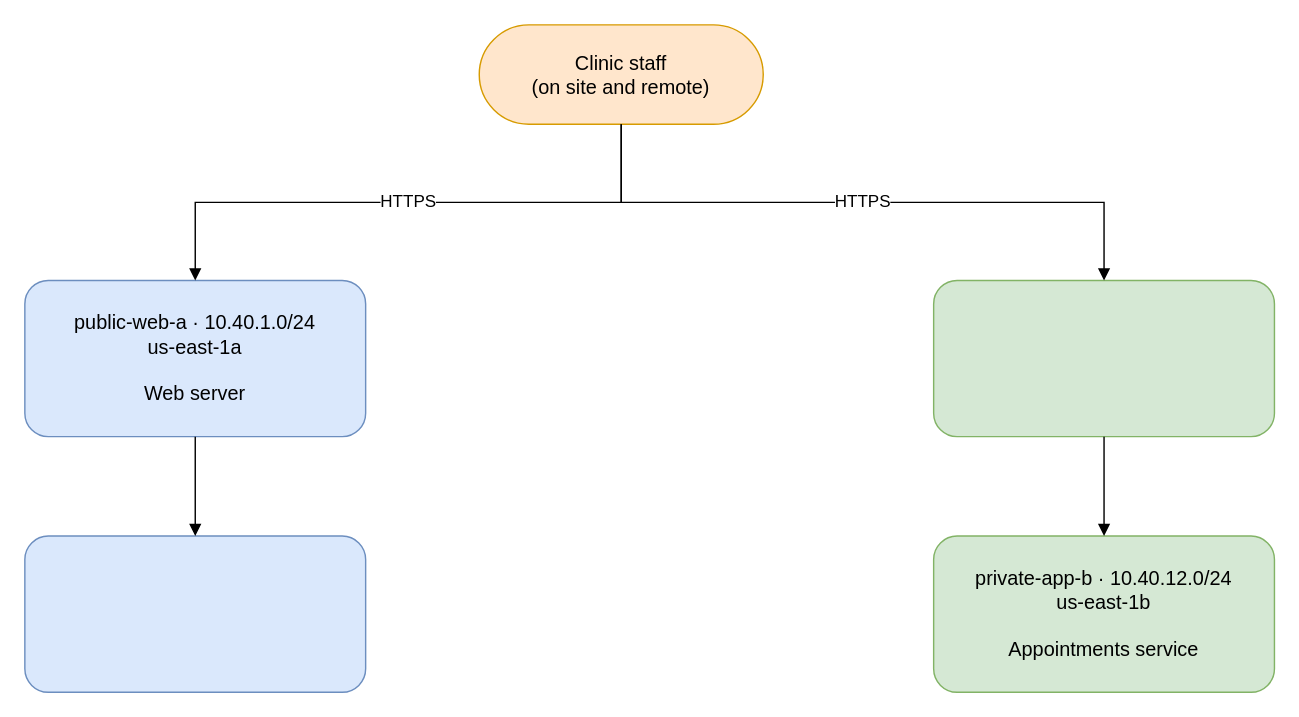
The diagram is 1299 pixels wide and 717 high, and some of its shapes have lost their labels. The shapes that lost their labels are listed below. From the top down, each one's box as (x1, y1, x2, y2) in pixels, then its label:
(932, 279, 1274, 437): public-web-b · 10.40.2.0/24 us-east-1b Web server
(23, 535, 366, 692): private-app-a · 10.40.11.0/24 us-east-1a Appointments service
